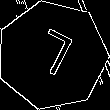L_SW: (26, 26, 78, 85)
